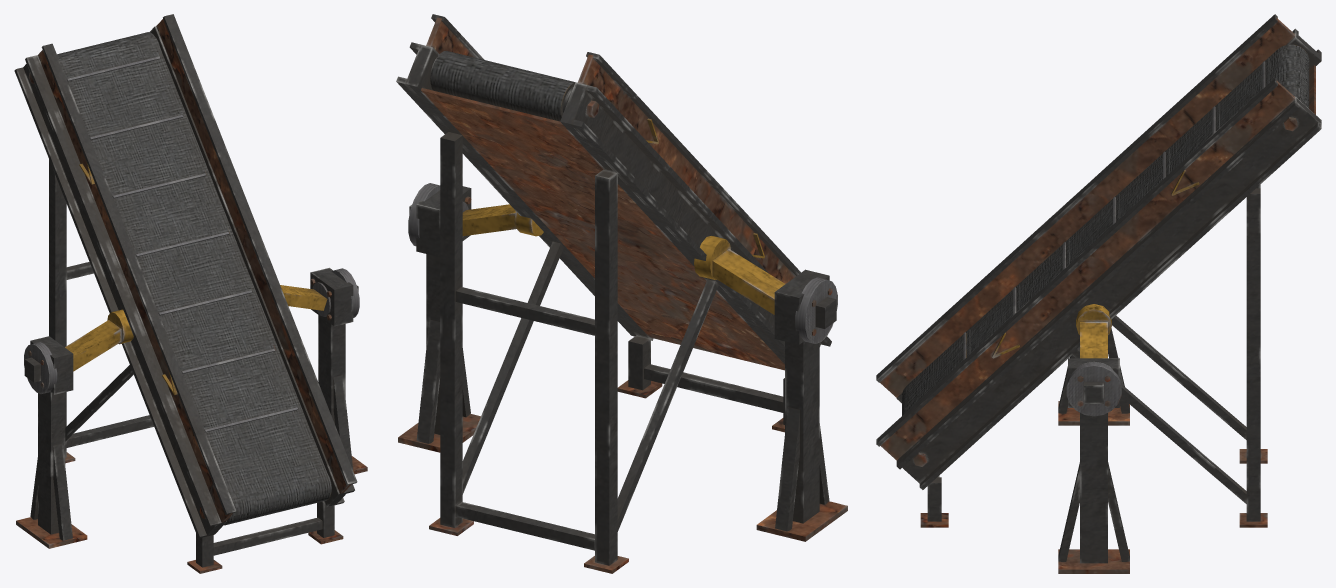
Rendered from feConveyorDown_HD.fbx.
3 renders of one model, left to right at view 1: azimuth 30°, elevation 25°; view 2: azimuth 150°, elevation 25°; view 3: azimuth 270°, elevation 25°, orthographic. The views are drawn at different scales.
Parts seen in each view (by area): view 1: feConveyorDown_Base, FeBeltDrive_R.002, FeBeltDrive_L.002, FeBeltSlats.002, FeSpin_BeltDrive_R.002; view 2: feConveyorDown_Base, FeBeltDrive_R.002, FeBeltDrive_L.002, FeSpin_BeltDrive_R.002, FeSpin_BeltDrive_L.002; view 3: feConveyorDown_Base, FeBeltDrive_L.002, FeSpin_BeltDrive_L.002, FeBeltSlats.002, FeBeltDrive_R.002.
Part boxes in pixels (left/top/right/bottom): feConveyorDown_Base: left=14, top=14, right=357, bottom=573; FeBeltDrive_R.002: left=16, top=309, right=133, bottom=548; FeBeltDrive_L.002: left=280, top=267, right=367, bottom=474; FeBeltSlats.002: left=65, top=52, right=298, bottom=432; FeSpin_BeltDrive_R.002: left=24, top=342, right=57, bottom=394; feConveyorDown_Base: left=396, top=14, right=831, bottom=573; FeBeltDrive_R.002: left=694, top=236, right=847, bottom=541; FeBeltDrive_L.002: left=398, top=186, right=543, bottom=452; FeSpin_BeltDrive_R.002: left=795, top=277, right=837, bottom=343; FeSpin_BeltDrive_L.002: left=408, top=183, right=440, bottom=246; feConveyorDown_Base: left=876, top=14, right=1321, bottom=527; FeBeltDrive_L.002: left=1058, top=304, right=1129, bottom=573; FeSpin_BeltDrive_L.002: left=1066, top=361, right=1121, bottom=416; FeBeltSlats.002: left=963, top=58, right=1269, bottom=359; FeBeltDrive_R.002: left=1058, top=328, right=1129, bottom=425.
Size of the model in its own units: 1.02 by 1.22 by 1.12.
1 material, 1 textured.
